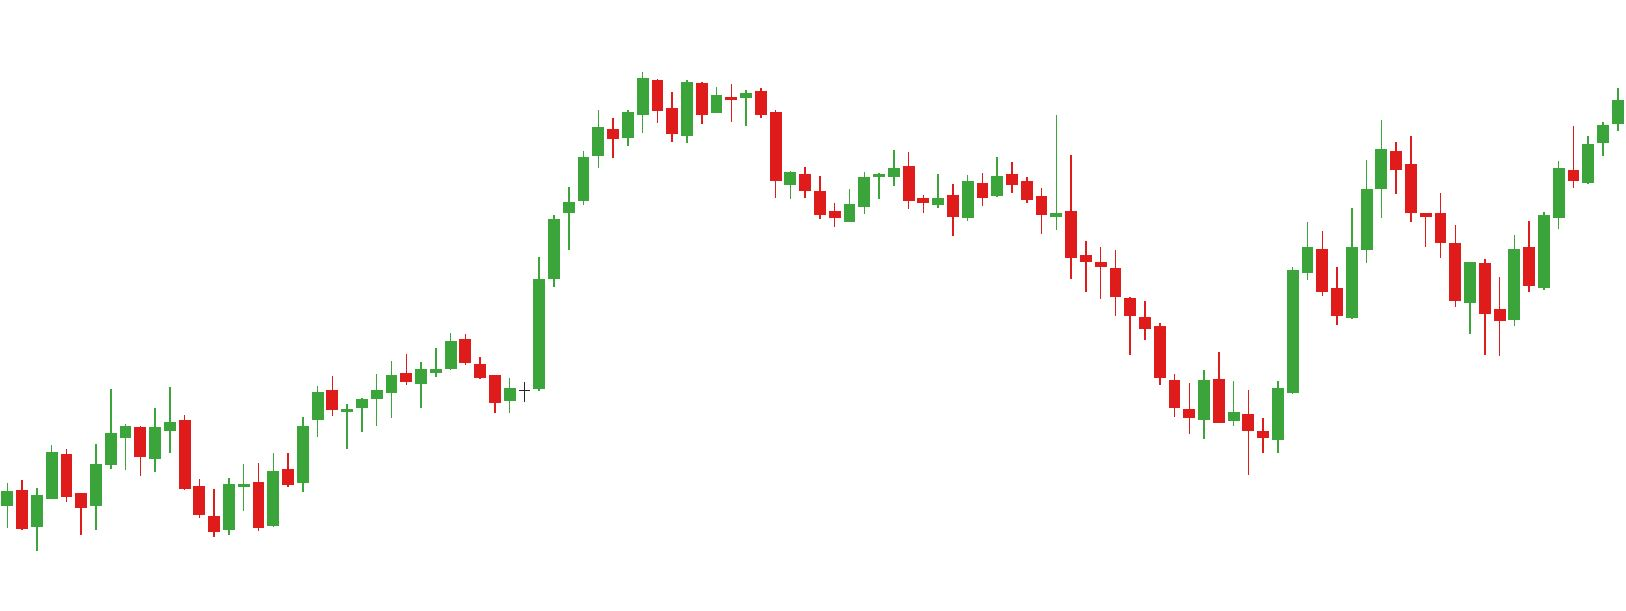buy: (1329, 183, 1478, 344), (86, 434, 239, 540)
